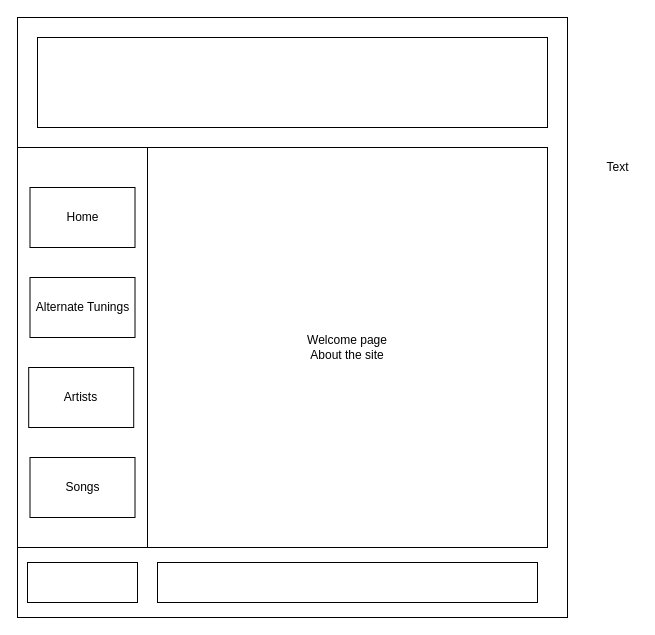
Image size: 655x635. Some labels were removed from this diagram. The shapes that lost their labels are listed below. From the top down, each one's centre as x and y in pixels, then its label:
At pixel 292 82: "Header".
At pixel 82 582: "Contact".
At pixel 347 582: "Footer".
